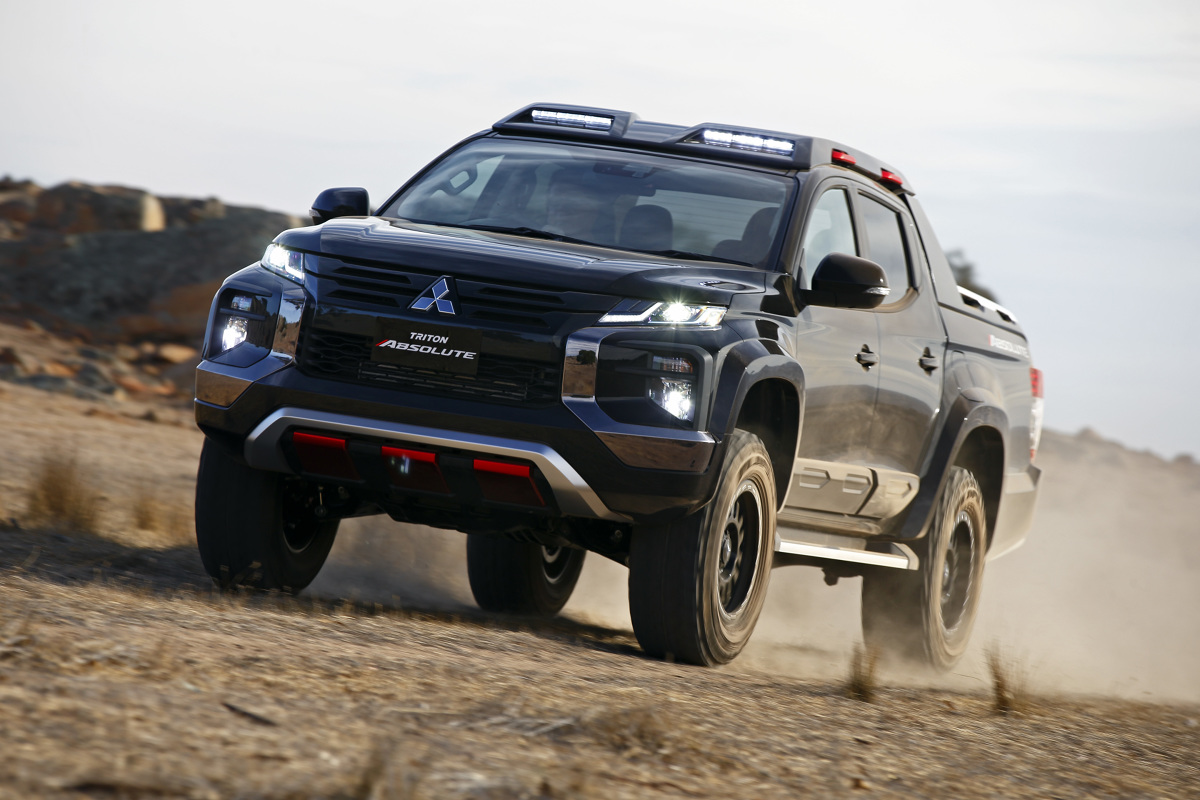pickup: (195, 96, 1047, 674)
